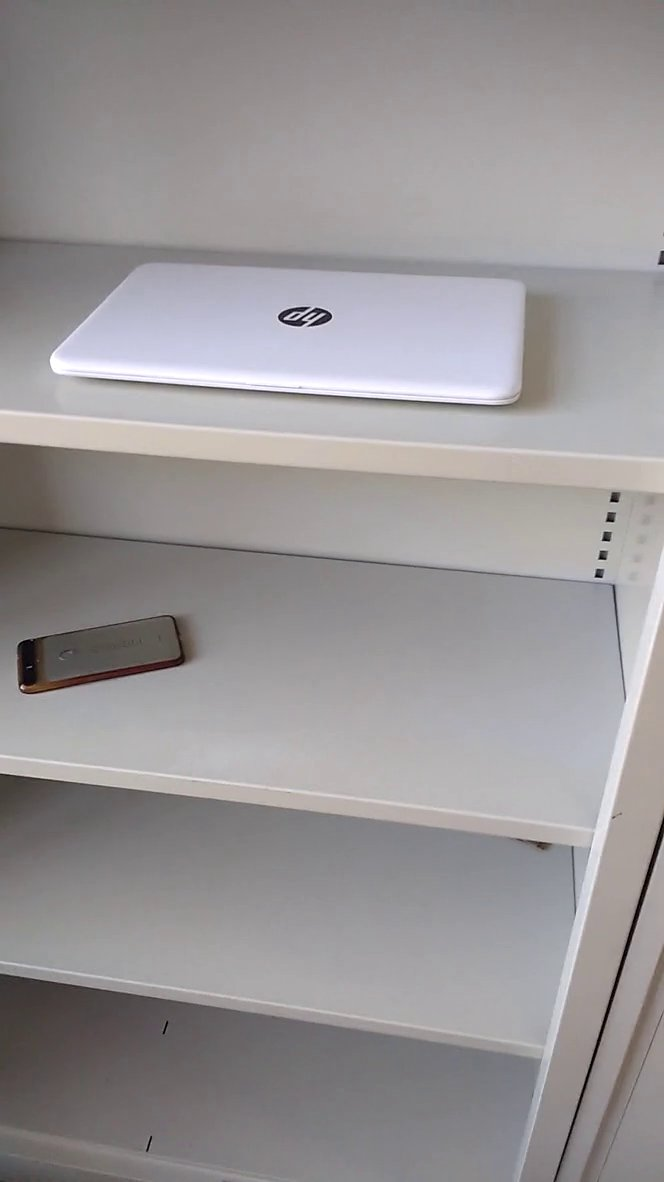laptop: (29, 247, 551, 439)
phone: (7, 601, 202, 708)
